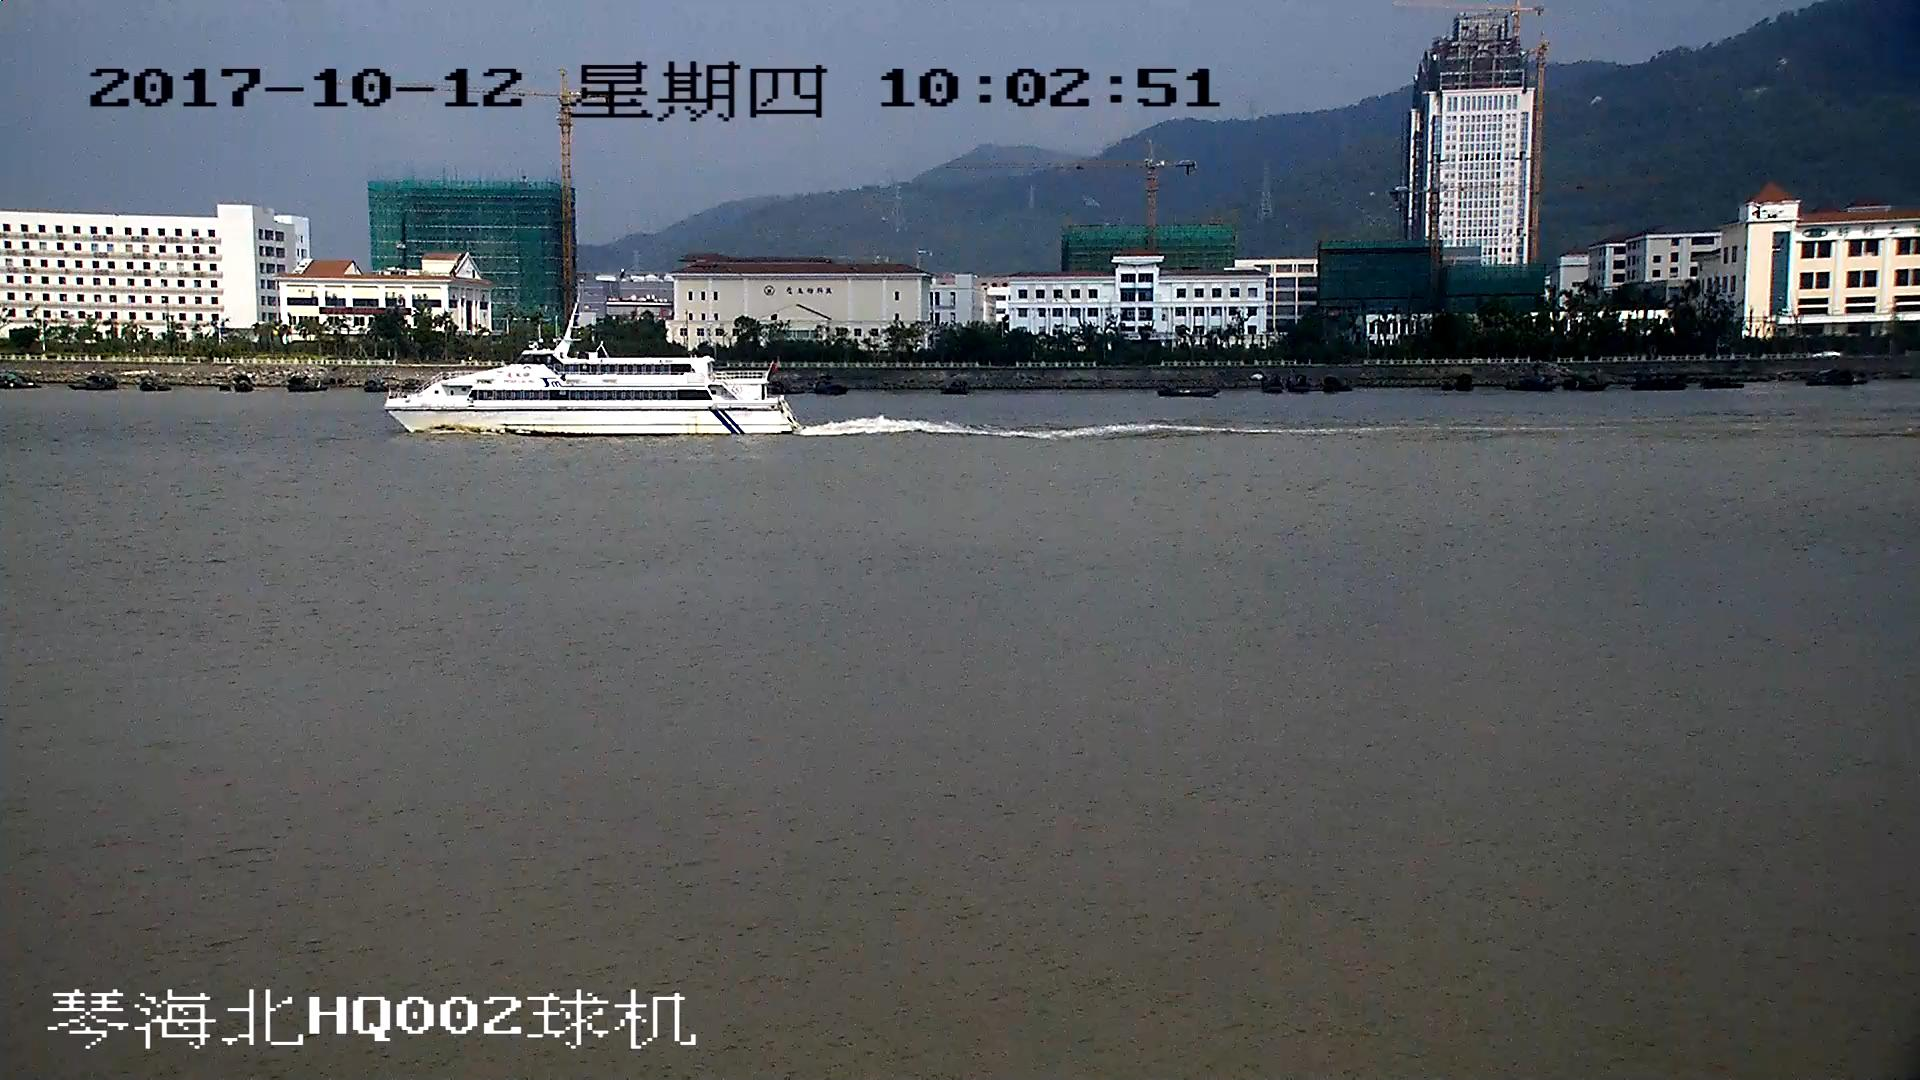passenger ship: (388, 296, 794, 437)
